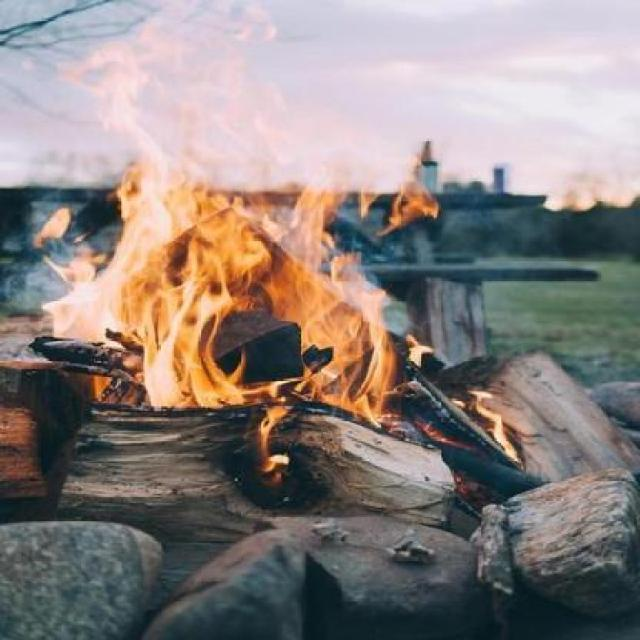Fire: (37, 1, 529, 507)
